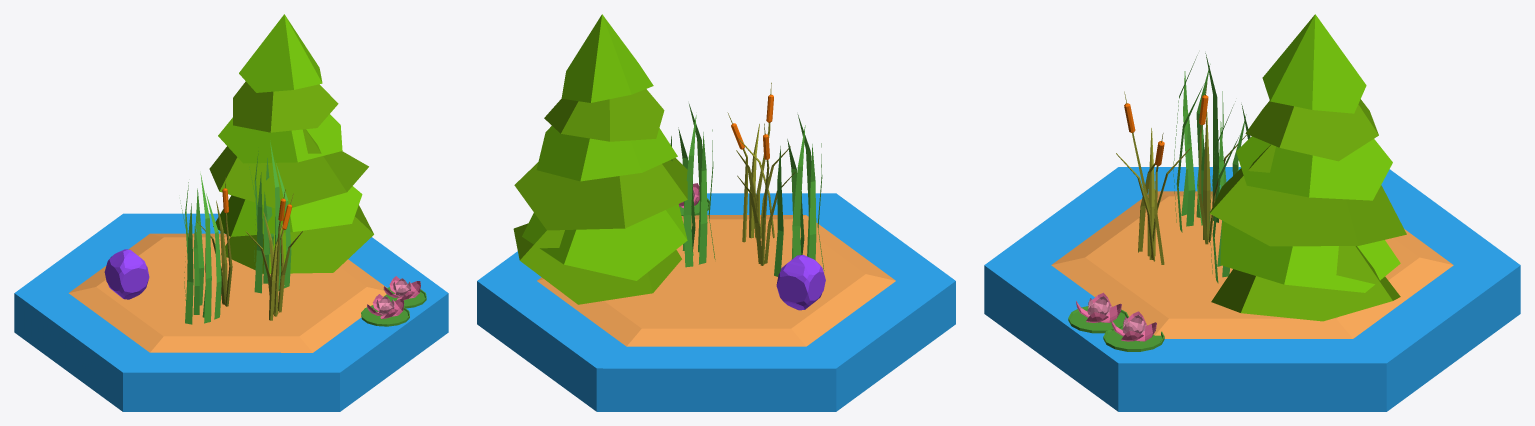
File: landscape2.glb
3 views of the same model, side by side, from view 1: azimuth 30°, elevation 25°; view 2: azimuth 150°, elevation 25°; view 3: azimuth 270°, elevation 25° (orthographic). The views are drawn at different scales.
Parts seen in each view (by area): view 1: ziran.821, ziran.840, ziran.828, ziran.829, ziran.831, ziran.825, ziran.838, ziran.832, ziran.839; view 2: ziran.821, ziran.840, ziran.828, ziran.829, ziran.825, ziran.831, ziran.832; view 3: ziran.821, ziran.840, ziran.828, ziran.831, ziran.839, ziran.838, ziran.832, ziran.829.
Part boxes in pixels (x1,y1,x2,y2): ziran.821: (14, 213, 448, 411); ziran.840: (209, 14, 373, 273); ziran.828: (180, 173, 221, 324); ziran.829: (249, 140, 291, 293); ziran.831: (246, 189, 302, 320); ziran.825: (104, 249, 149, 299); ziran.838: (361, 294, 409, 326); ziran.832: (197, 177, 232, 306); ziran.839: (383, 276, 426, 308); ziran.821: (477, 193, 955, 411); ziran.840: (513, 14, 687, 304); ziran.828: (774, 114, 824, 276); ziran.829: (670, 104, 715, 267); ziran.825: (776, 255, 825, 310); ziran.831: (727, 82, 790, 242); ziran.832: (737, 123, 795, 265); ziran.821: (984, 167, 1520, 411); ziran.840: (1209, 14, 1406, 321); ziran.828: (1173, 53, 1223, 232); ziran.831: (1116, 91, 1190, 264); ziran.839: (1103, 311, 1164, 351); ziran.838: (1068, 292, 1128, 333); ziran.832: (1198, 83, 1246, 244); ziran.829: (1209, 101, 1250, 283).
Size of the model in its own units: 4.33 by 3.57 by 5.
1 material, 1 textured.
